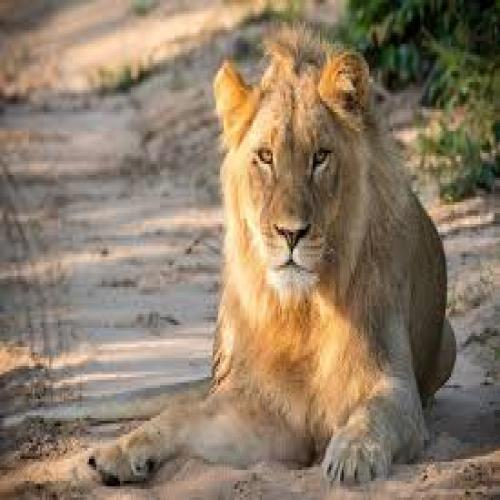lion-endangered: (94, 46, 459, 478)
